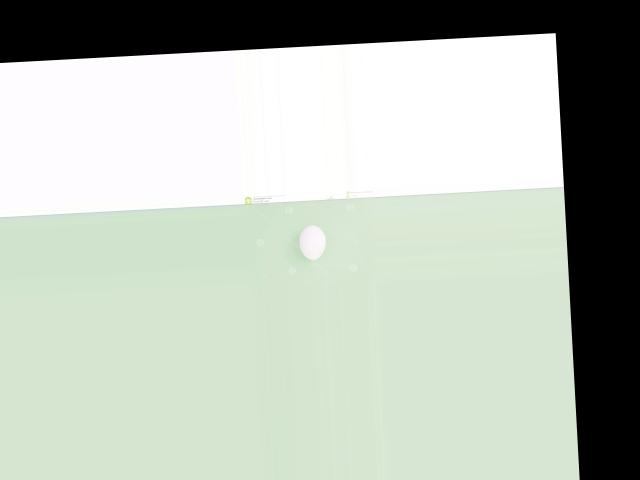egg: (298, 224, 326, 260)
